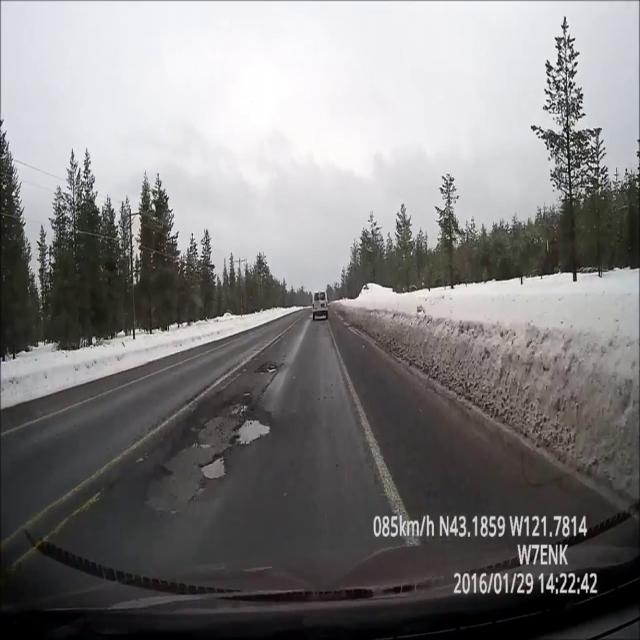Pothole: (226, 415, 274, 451), (197, 455, 231, 481), (256, 362, 279, 378)
